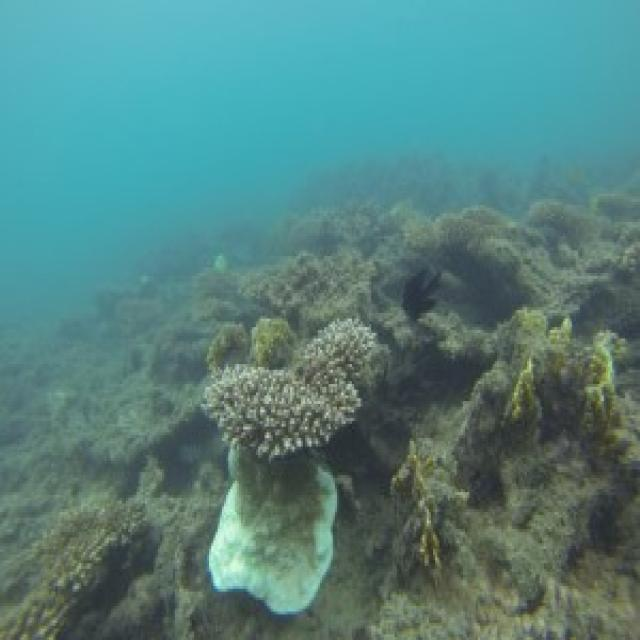Bleached: (208, 445, 332, 613), (204, 357, 359, 459), (300, 320, 381, 391)
Healthy: (1, 502, 157, 638)
